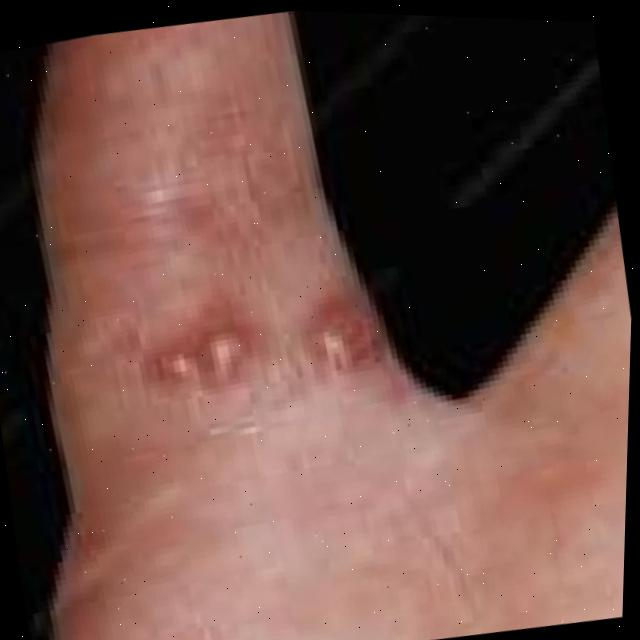Shingles: (151, 300, 382, 400)
